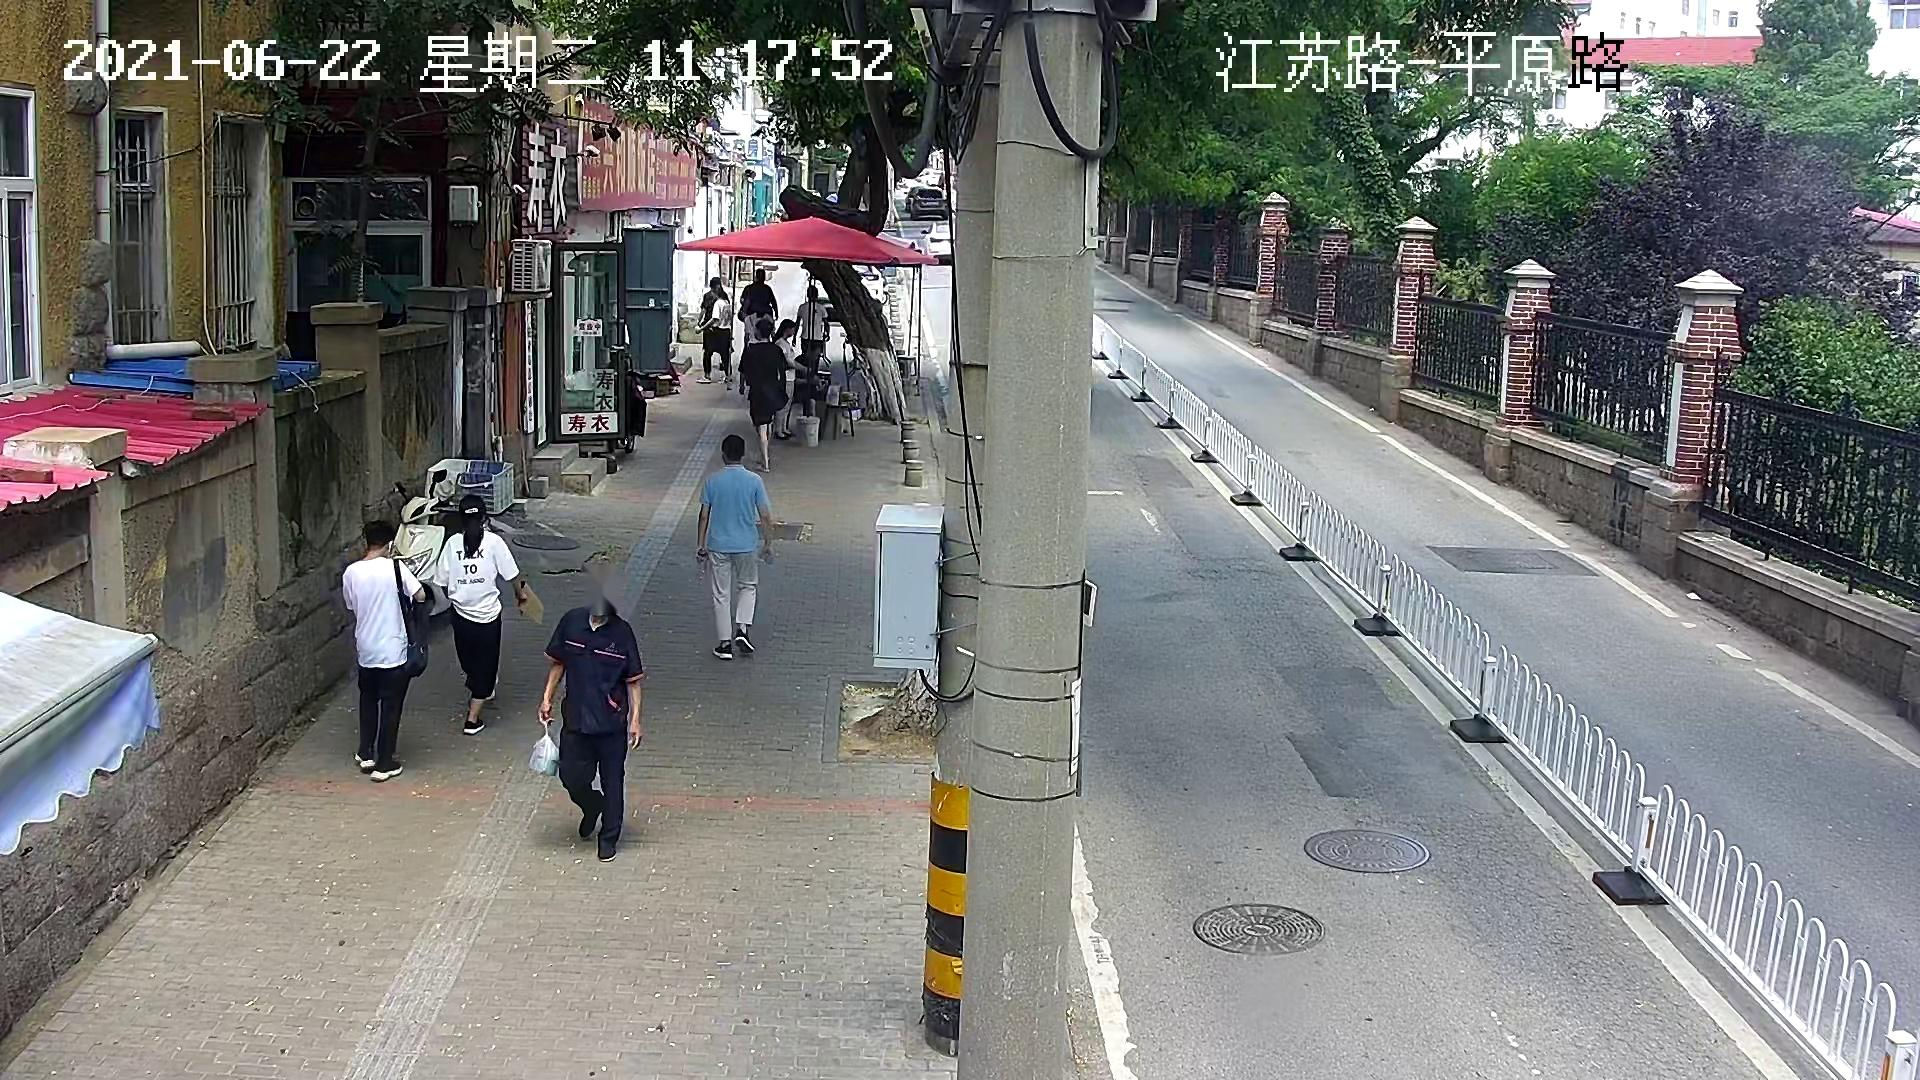chair: (895, 353, 920, 400)
umbrella: (675, 215, 942, 268)
